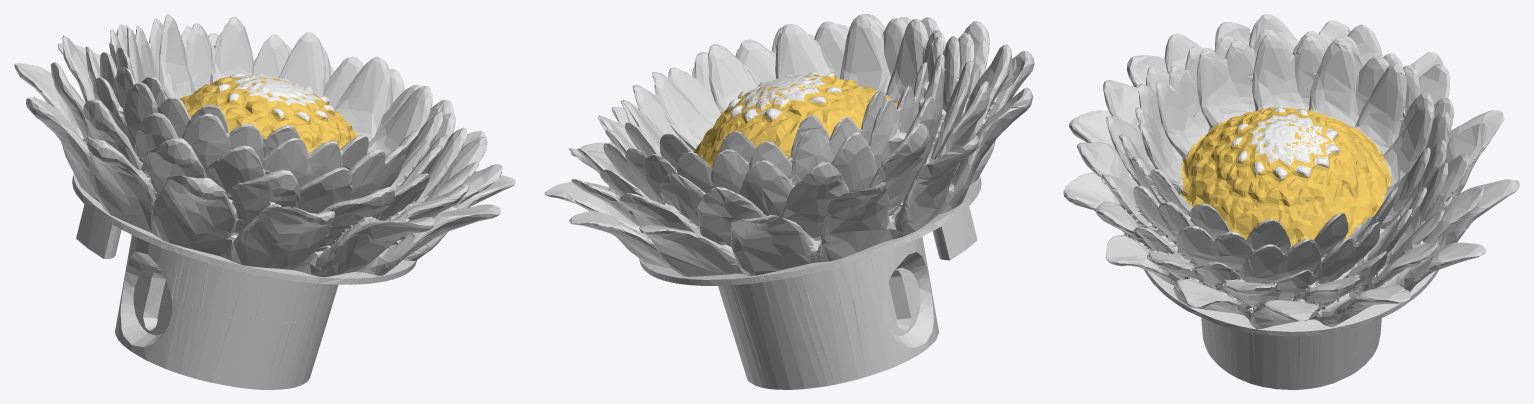
The model's file is frontpanel_white.glb.
3 renders of one model, left to right at view 1: azimuth 30°, elevation 25°; view 2: azimuth 150°, elevation 25°; view 3: azimuth 270°, elevation 25°, orthographic. The views are drawn at different scales.
Bounding box in the file's own units: 0.0529 × 0.0386 × 0.0551.
